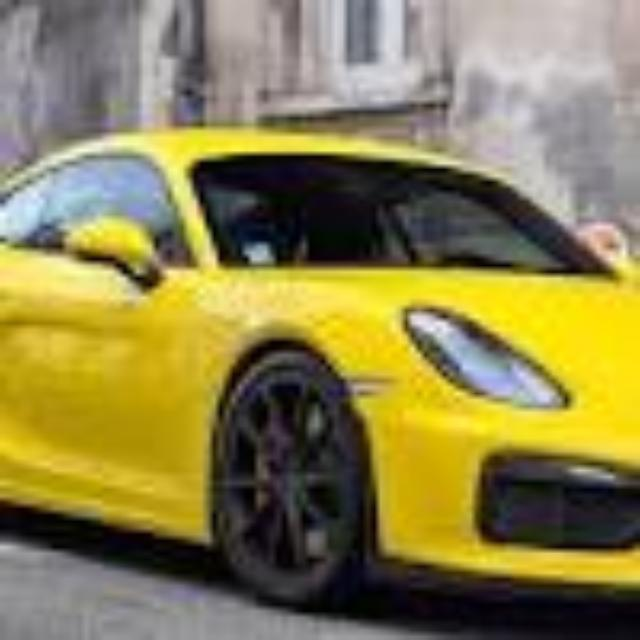porsche: (0, 127, 640, 606)
